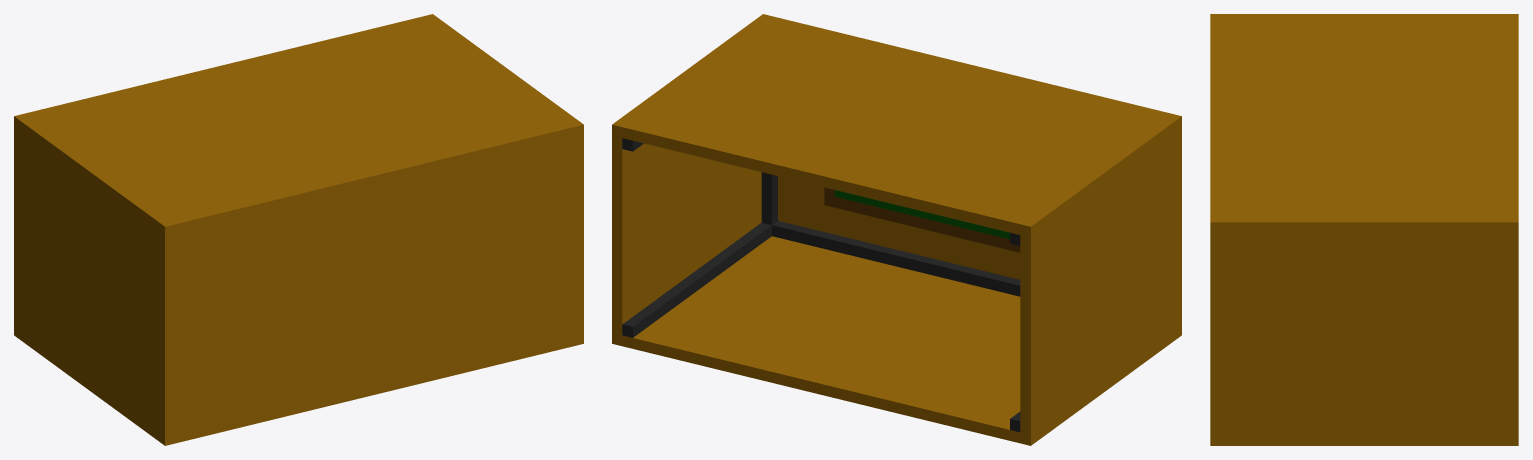
Rendered from Tutorial.obj.
3 views of the same model, side by side, from view 1: azimuth 30°, elevation 25°; view 2: azimuth 150°, elevation 25°; view 3: azimuth 270°, elevation 25° (orthographic).
Bounding box in the file's own units: 4 × 2 × 2.5.
1 material, 1 textured.
